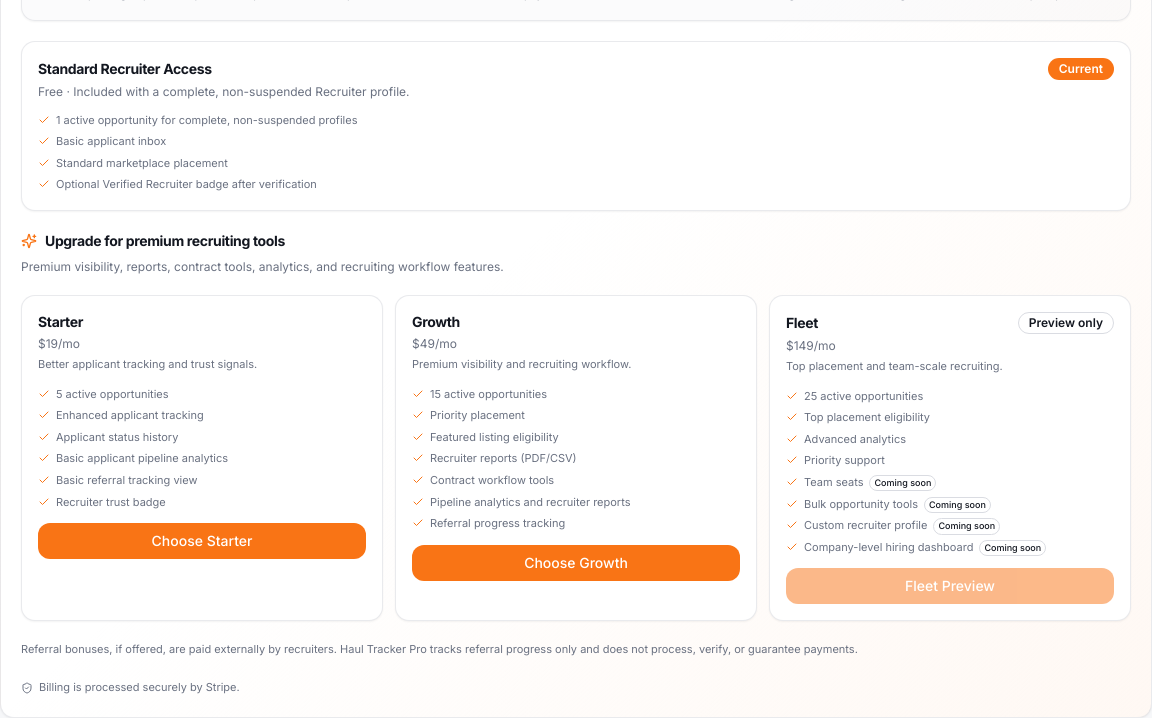
Test: server in_progress state › locks all plan buttons and shows Check Status disabled during cooldown
(page scrolled)
Click the button "Choose Starter": click(202, 541) [38,523,366,559]
(page scrolled)
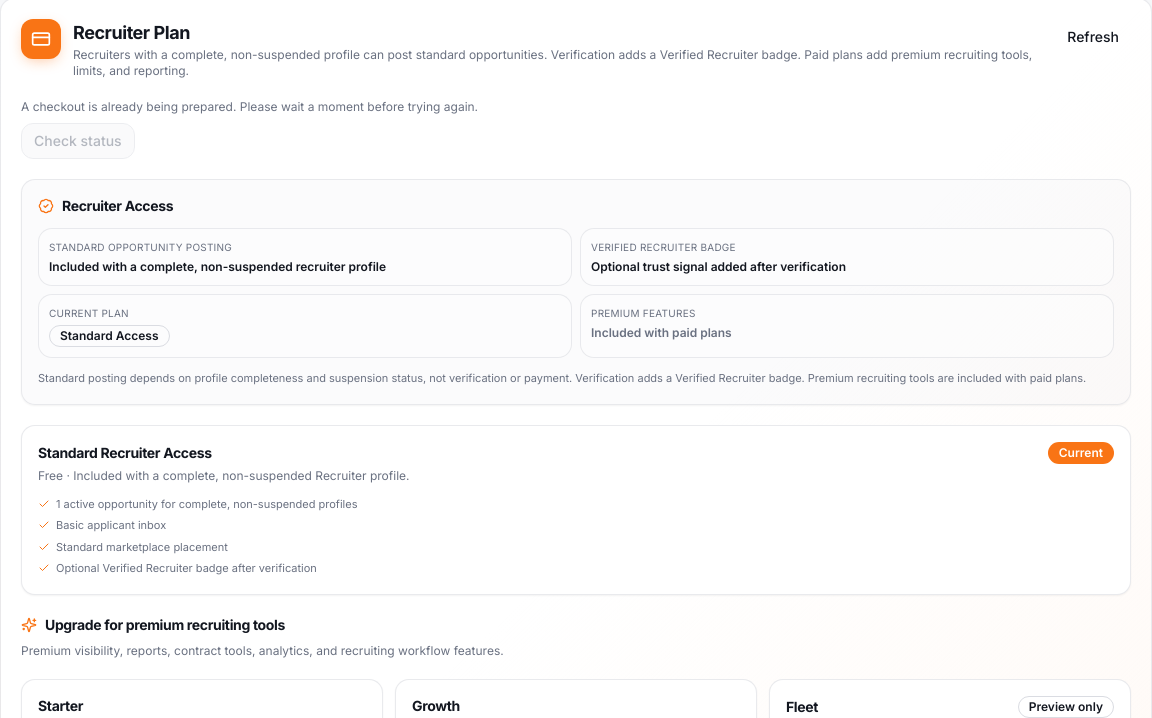
expect the button with test id "recruiter-billing-check-status" is disabled: met, box [21,123,135,159]
